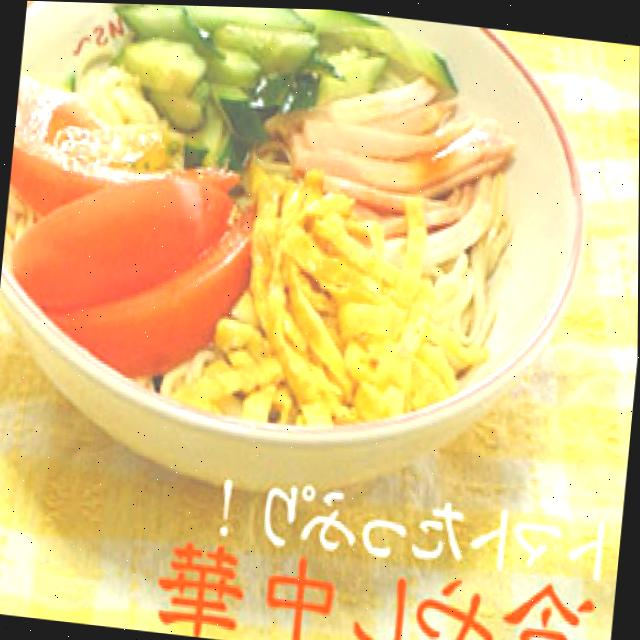面条主食: (0, 0, 610, 477)
